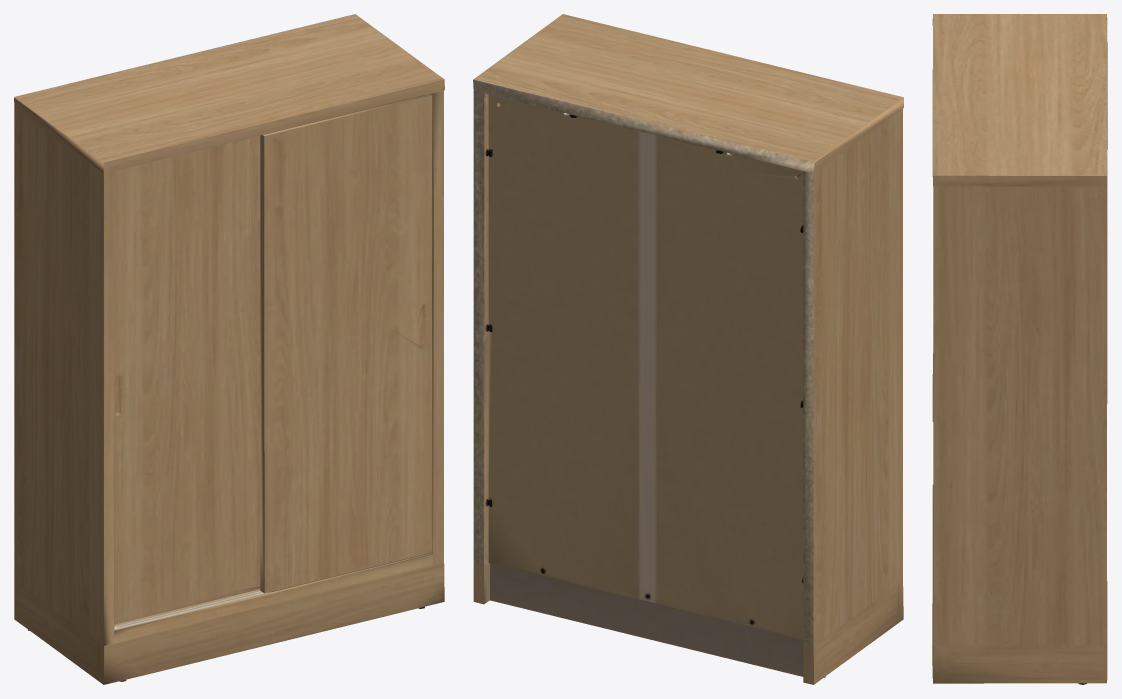
The picture shows the model from 3 angles, left to right: view 1: azimuth 30°, elevation 25°; view 2: azimuth 150°, elevation 25°; view 3: azimuth 270°, elevation 25°; orthographic projection. The views are drawn at different scales.
Visible parts, largest first — view 1: ProcessedMeshNode; view 2: ProcessedMeshNode; view 3: ProcessedMeshNode.
Part boxes in pixels (x1,y1,x2,y2): ProcessedMeshNode: [14, 14, 444, 684]; ProcessedMeshNode: [473, 14, 903, 684]; ProcessedMeshNode: [932, 14, 1107, 684].
Bounding box in the file's own units: 0.8175 × 1.2 × 0.3732.
Materials: 1 (1 with a texture image).
